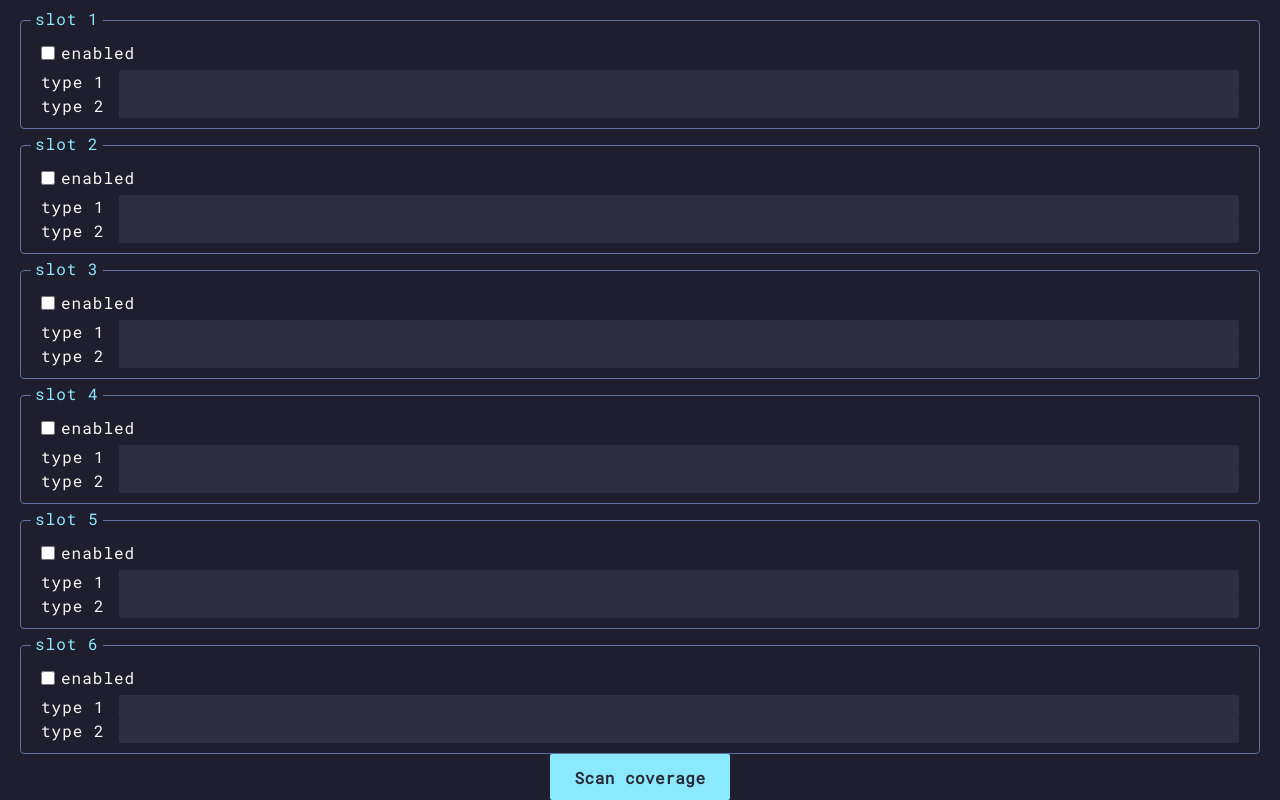
Test case: CoverageAnalyzerSearch › type inputs are enabled after enabling slot
Click the checkbox labelled "enabled" below "slot 1" at (48, 53), box [41,46,55,60]
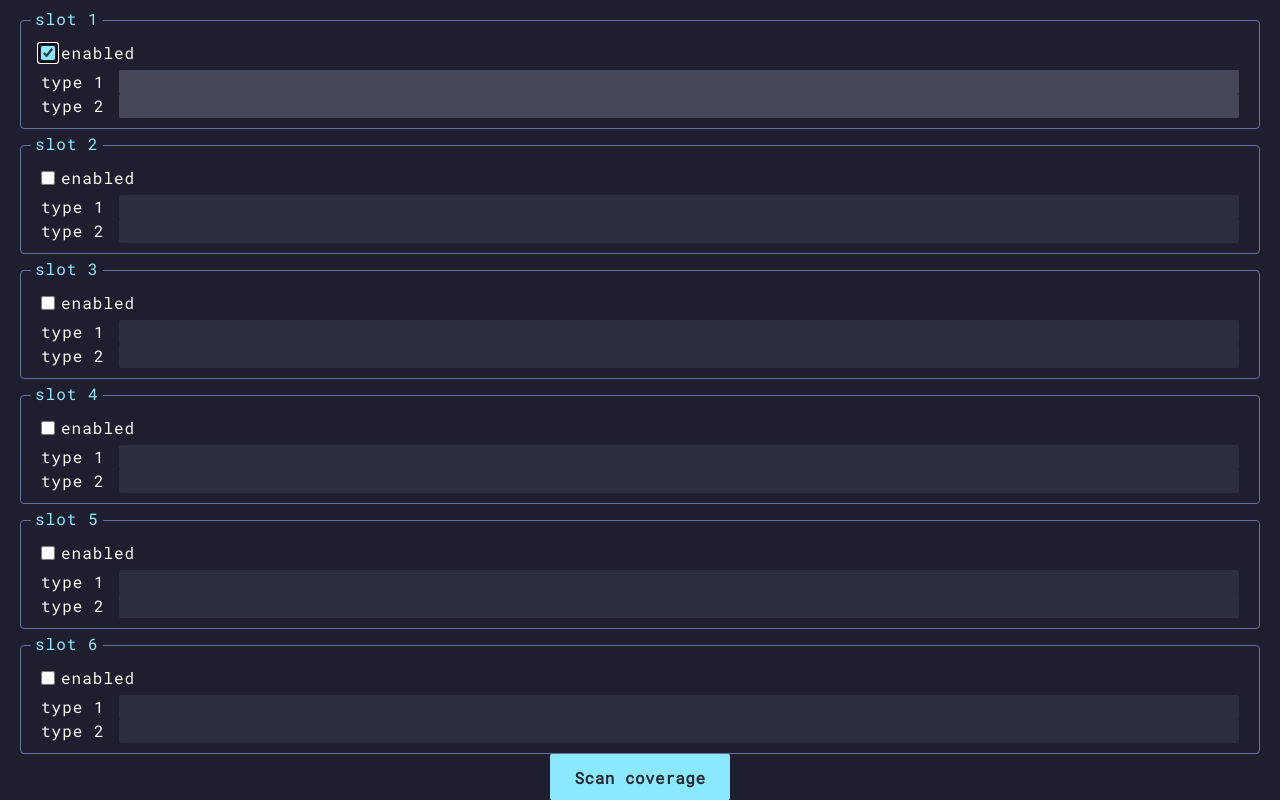
Expected: the field labelled "type 1" below "slot 1" is enabled, [119,70,1239,94]
